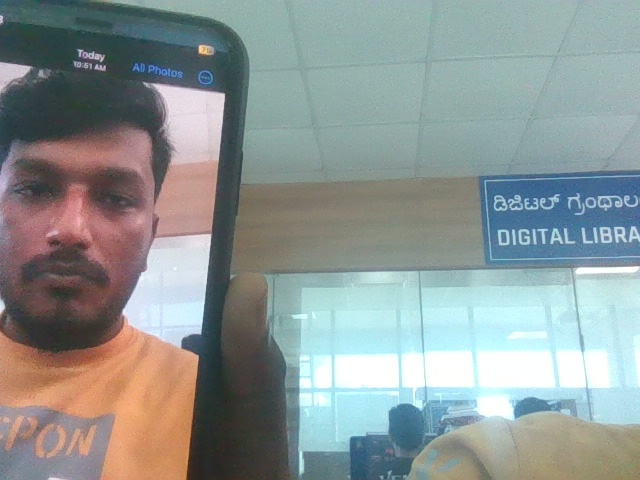fake: (0, 37, 228, 360)
